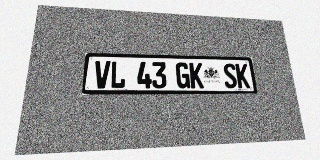3: (152, 62, 167, 88)
4: (137, 61, 152, 88)
G: (176, 62, 190, 88)
K: (189, 63, 204, 88), (235, 64, 250, 88)
L: (110, 61, 126, 88)
S: (223, 63, 238, 88)
V: (94, 61, 111, 88)
